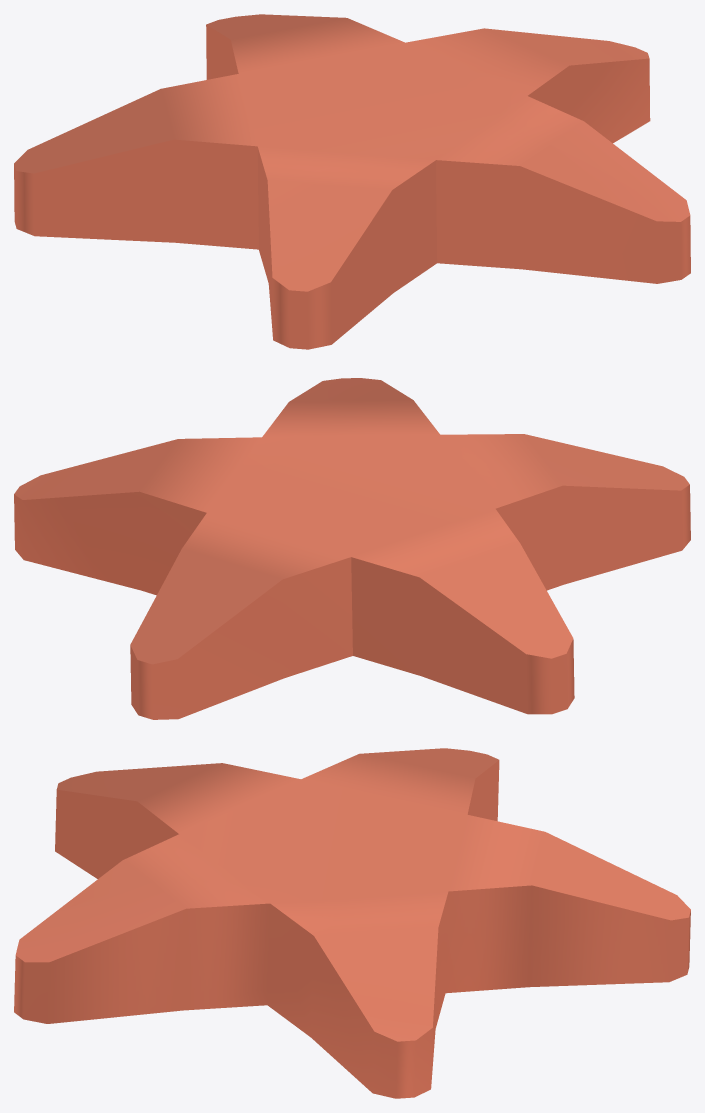
File: prop8.glb
3 renders of one model, top to bottom at view 1: azimuth 30°, elevation 25°; view 2: azimuth 150°, elevation 25°; view 3: azimuth 270°, elevation 25°, orthographic. The views are drawn at different scales.
Visible parts, largest first — view 1: Cylinder.020_bgr_jungle.001_0; view 2: Cylinder.020_bgr_jungle.001_0; view 3: Cylinder.020_bgr_jungle.001_0.
Part boxes in pixels (x1=…): Cylinder.020_bgr_jungle.001_0: x1=14, y1=14, x2=690, y2=349; Cylinder.020_bgr_jungle.001_0: x1=14, y1=378, x2=690, y2=719; Cylinder.020_bgr_jungle.001_0: x1=14, y1=748, x2=690, y2=1098.
Size of the model in its own units: 1.2 by 0.2212 by 1.18.
Materials: 1 (1 with a texture image).
